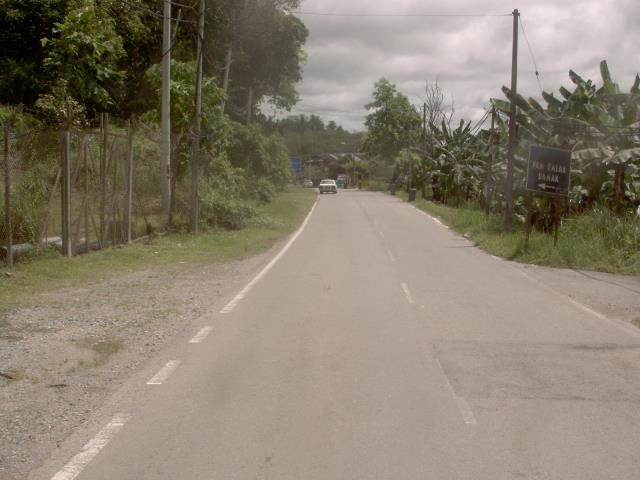ads_sign: (520, 139, 576, 202)
